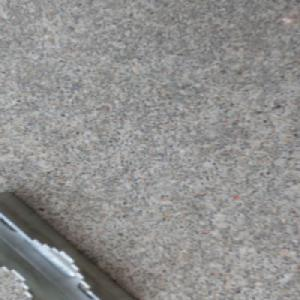ClampPart: (0, 189, 139, 300)
